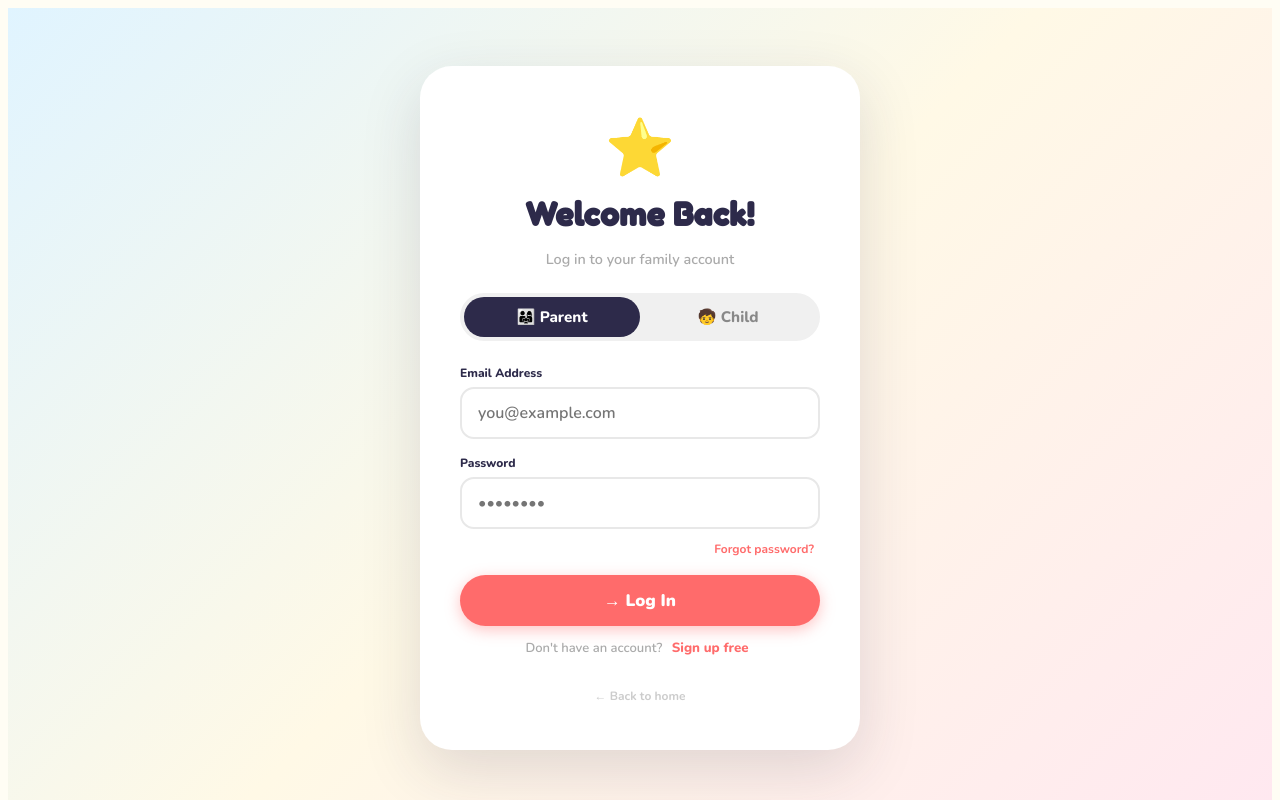
Scenario: 🔐 Auth Screen — Parent › shows error when submitting empty form
Click the button "→ Log In". click: (640, 600)
box: [460,575,820,626]
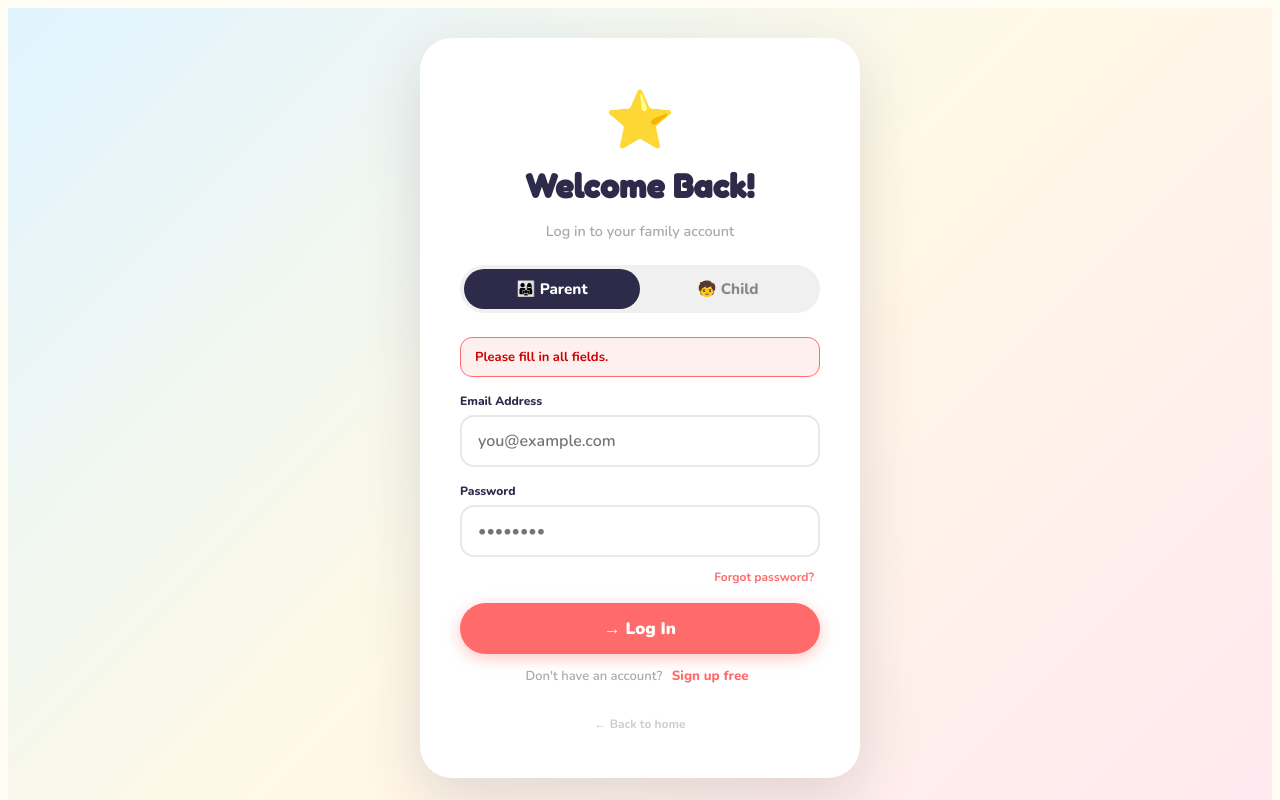
Result: the text "Please fill in all fields." is shown at [460,337,820,377]
